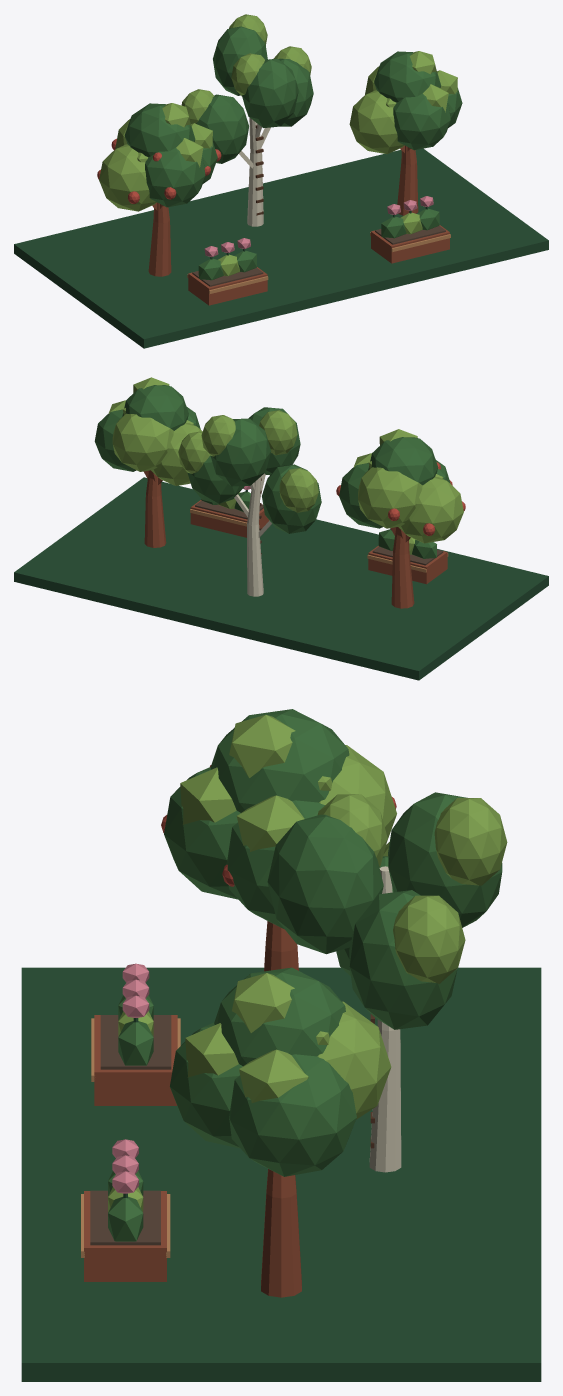
The model's file is Backyard_GardenGrove_Showcase.glb.
3 views of the same model, one above another, from view 1: azimuth 30°, elevation 25°; view 2: azimuth 150°, elevation 25°; view 3: azimuth 270°, elevation 25° (orthographic). The views are drawn at different scales.
Visible parts, largest first — view 1: Backyard_GardenGrove_Showcase; view 2: Backyard_GardenGrove_Showcase; view 3: Backyard_GardenGrove_Showcase.
Boxes of the visible parts, <box> form: Backyard_GardenGrove_Showcase: <box>14,14,548,348</box>; Backyard_GardenGrove_Showcase: <box>14,377,548,680</box>; Backyard_GardenGrove_Showcase: <box>21,709,541,1381</box>.
Bounding box in the file's own units: 9 × 4.22 × 5.
